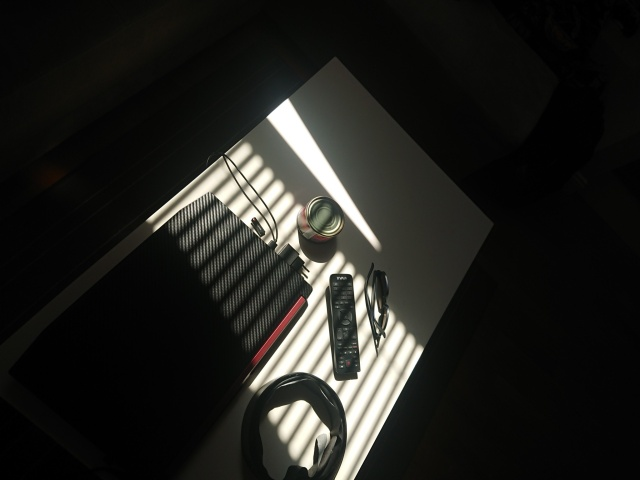Giana Tuna Salad Mexico 185g: (296, 194, 346, 245)
